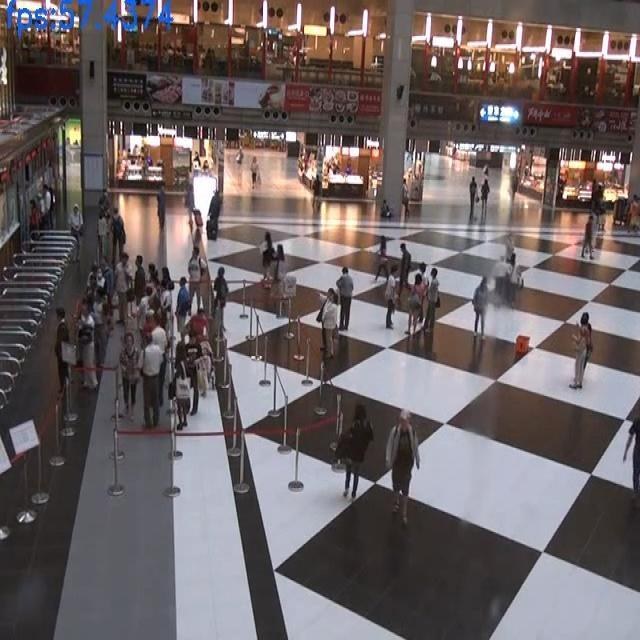abandoned-object: (506, 319, 544, 361)
